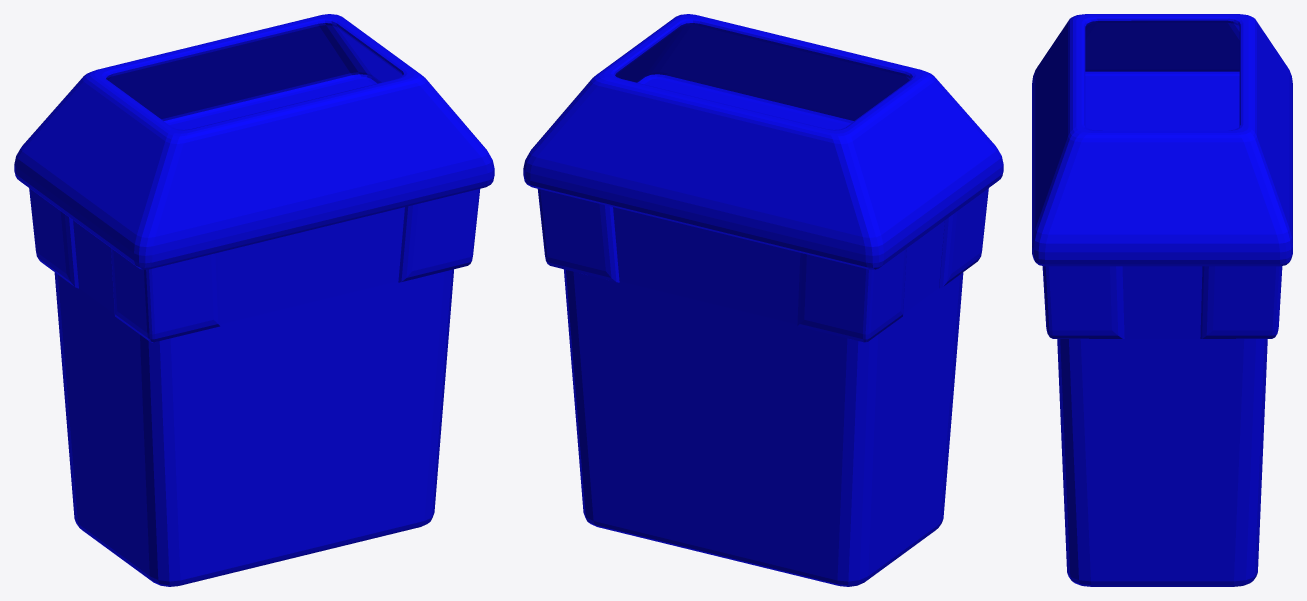
The model's file is blueBin.obj.
The picture shows the model from 3 angles, left to right: view 1: azimuth 30°, elevation 25°; view 2: azimuth 150°, elevation 25°; view 3: azimuth 270°, elevation 25°; orthographic projection.
Bounding box in the file's own units: 0.8453 × 1.01 × 0.5341.
